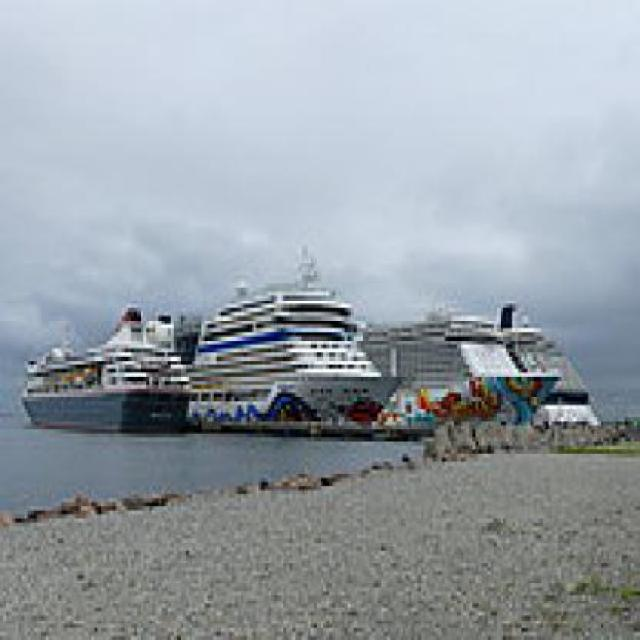cruise: (193, 248, 422, 446), (13, 297, 206, 443)
